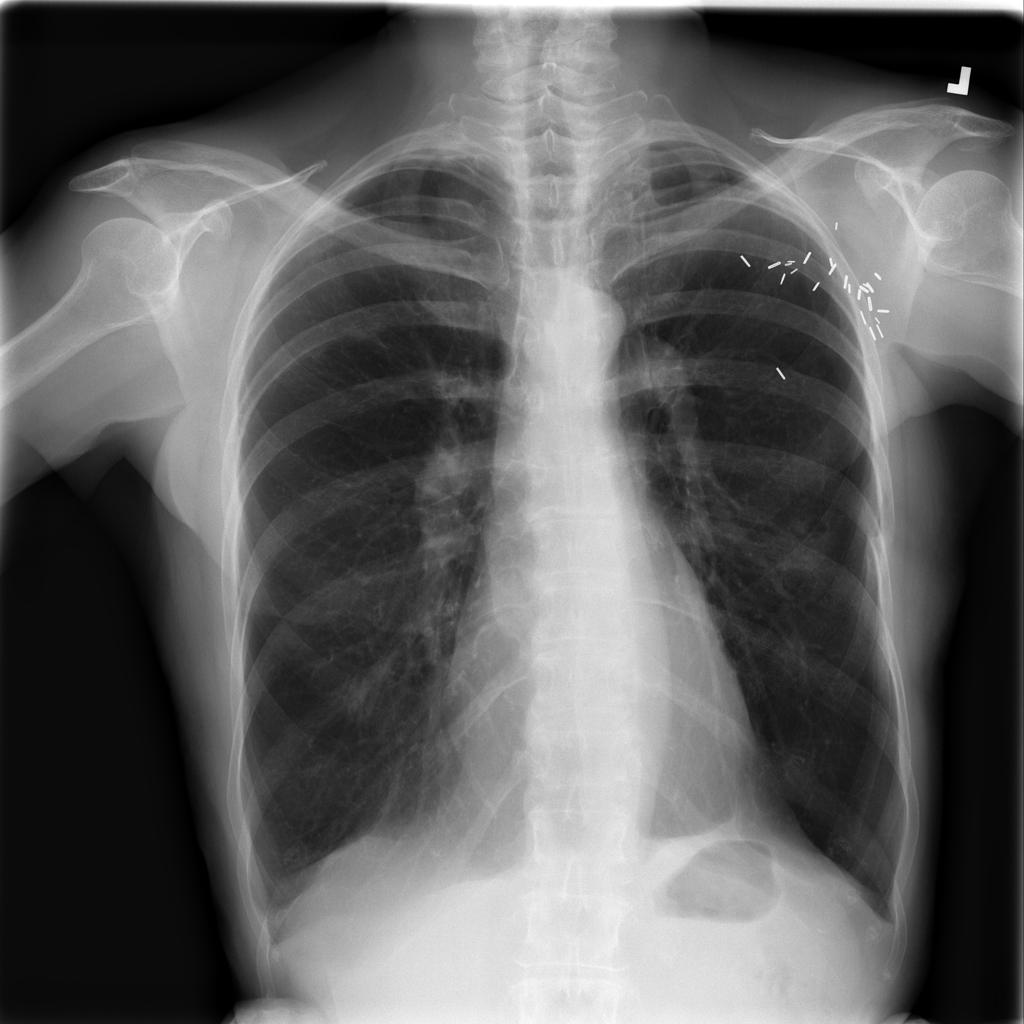nodule: (756, 498, 860, 606)
